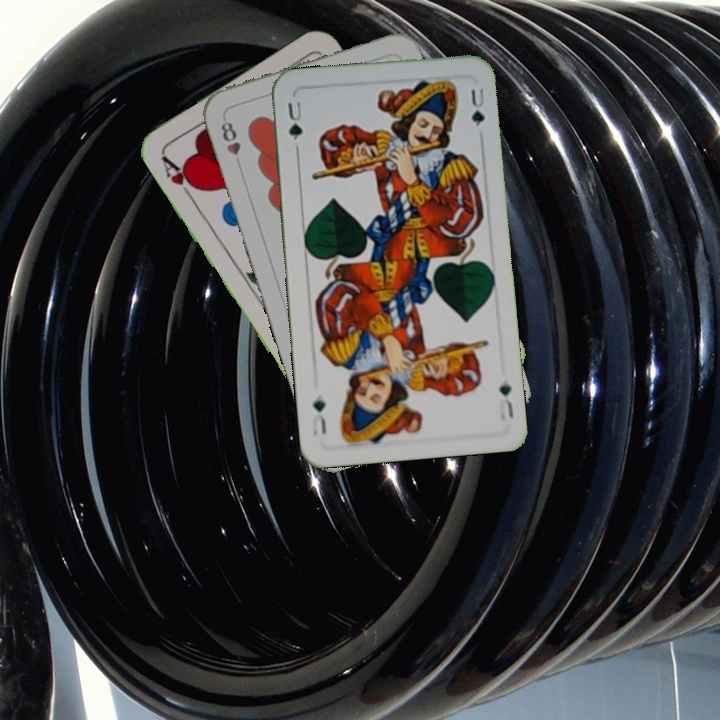GU: (283, 97, 306, 143), (494, 379, 516, 423)
H8: (217, 117, 244, 158)
HA: (157, 151, 201, 204)
